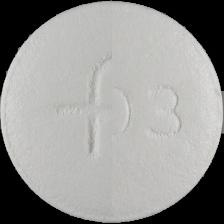68151-2776: (0, 0, 224, 224)
